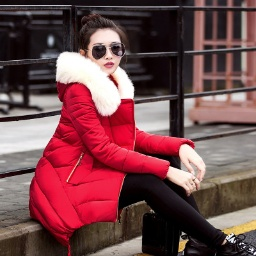face: (75, 14, 127, 80)
